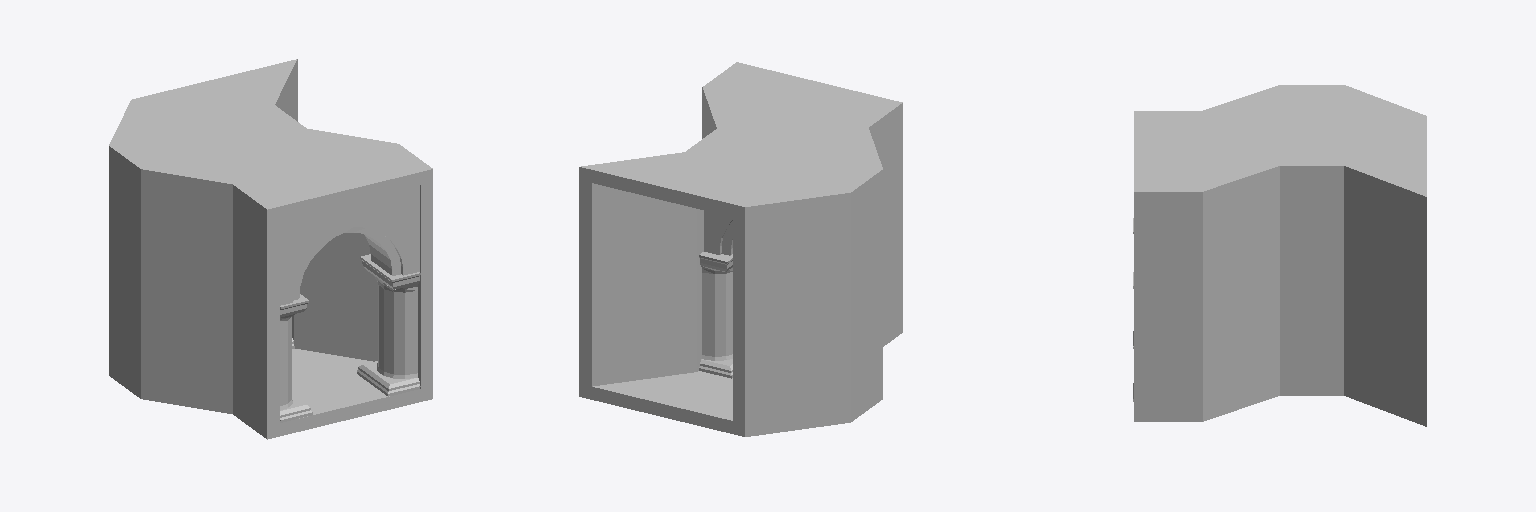
Rendered from templepieceC.obj.
3 renders of one model, left to right at view 1: azimuth 30°, elevation 25°; view 2: azimuth 150°, elevation 25°; view 3: azimuth 270°, elevation 25°, orthographic.
Parts seen in each view (by area): view 1: TemplePieceC; view 2: TemplePieceC; view 3: TemplePieceC.
Part boxes in pixels (left/top/right/bottom): TemplePieceC: left=109, top=59, right=432, bottom=439; TemplePieceC: left=579, top=62, right=902, bottom=436; TemplePieceC: left=1133, top=85, right=1426, bottom=426.
Bounding box in the file's own units: 300 × 287 × 332.